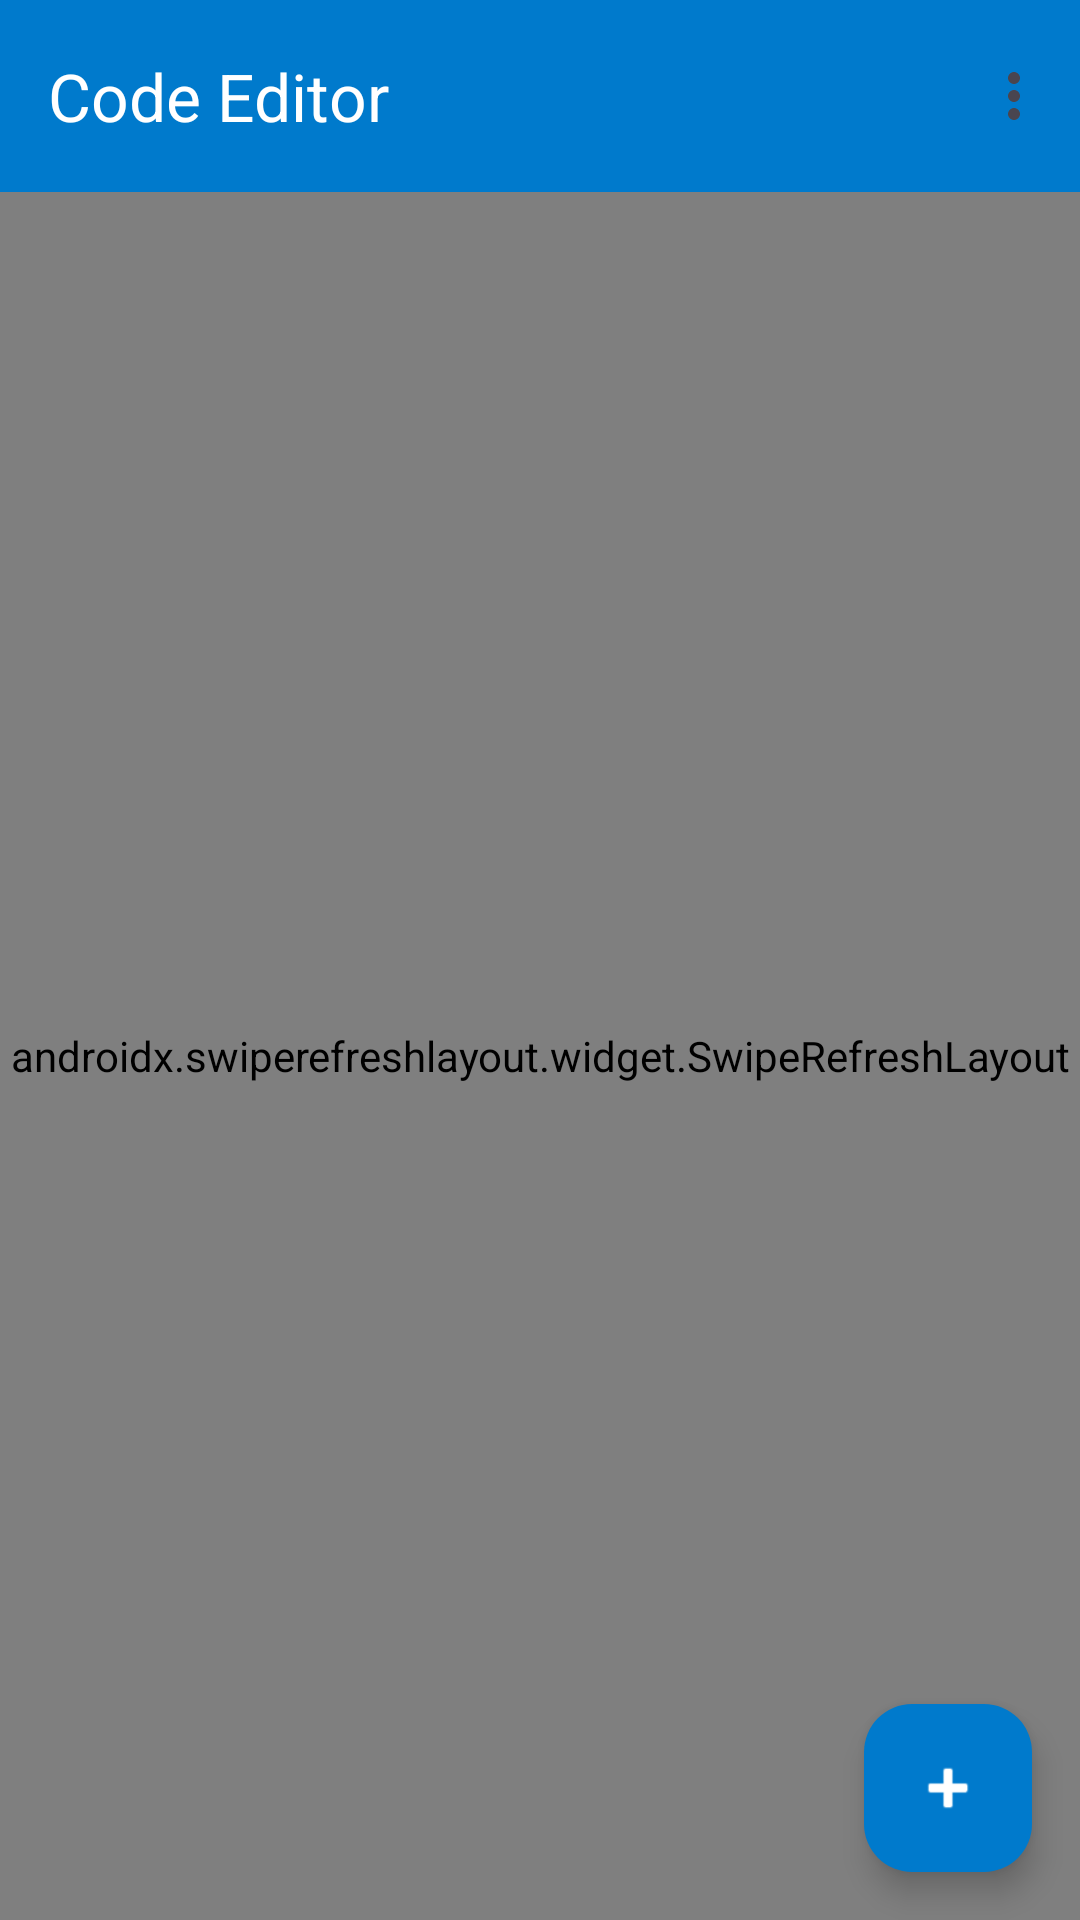

Named icons in this screenshot (1080×1920) and their centers, point (x, y):
Add Connection: point (948, 1788)
